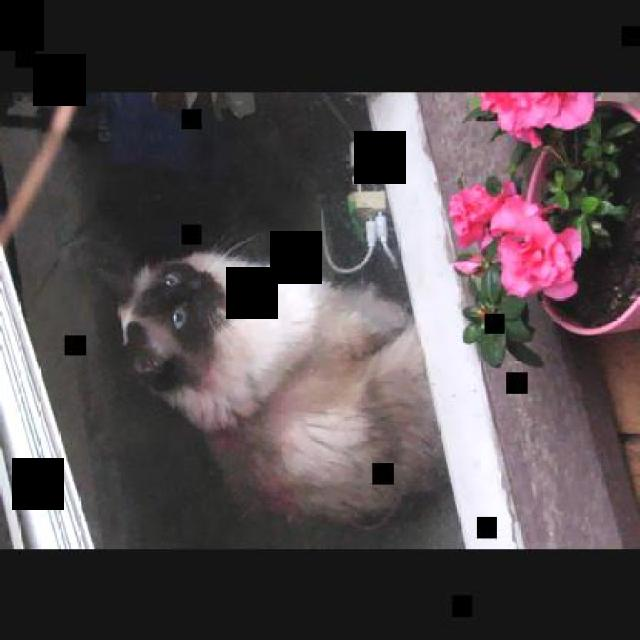unauthorized: (99, 232, 446, 530)
